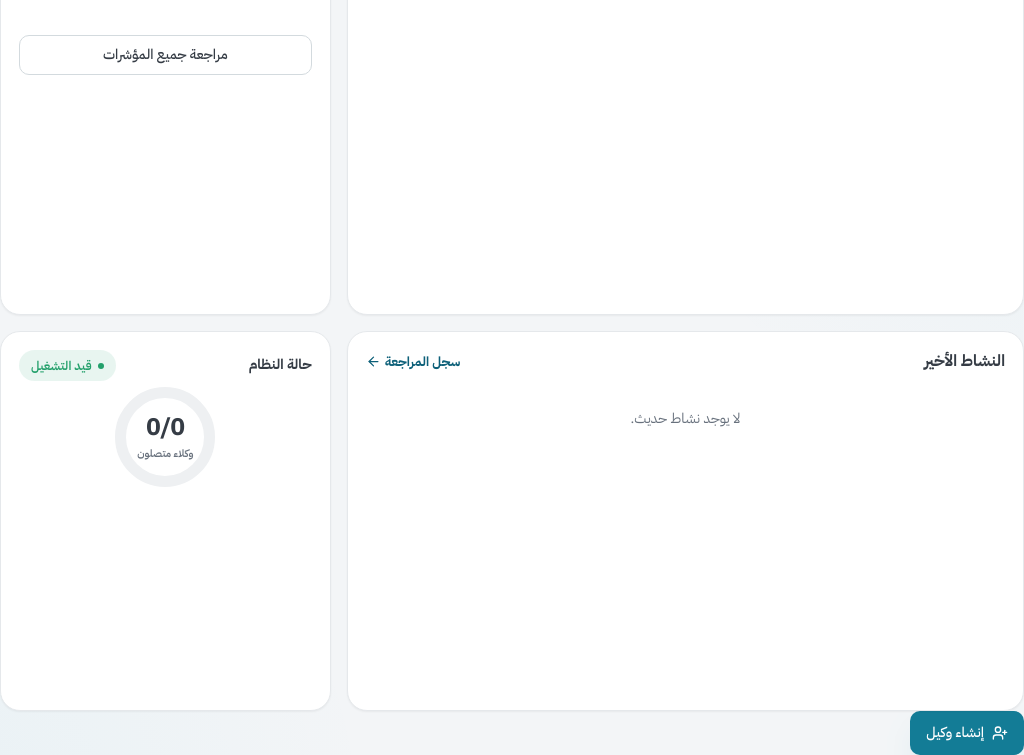
it: MasterDashboard "Create Agent" field accessible names (a11y) › localises the accessible names in Arabic with no English leak
(page scrolled)
Click the button "إنشاء وكيل" at (967, 733), box [910,711,1023,754]
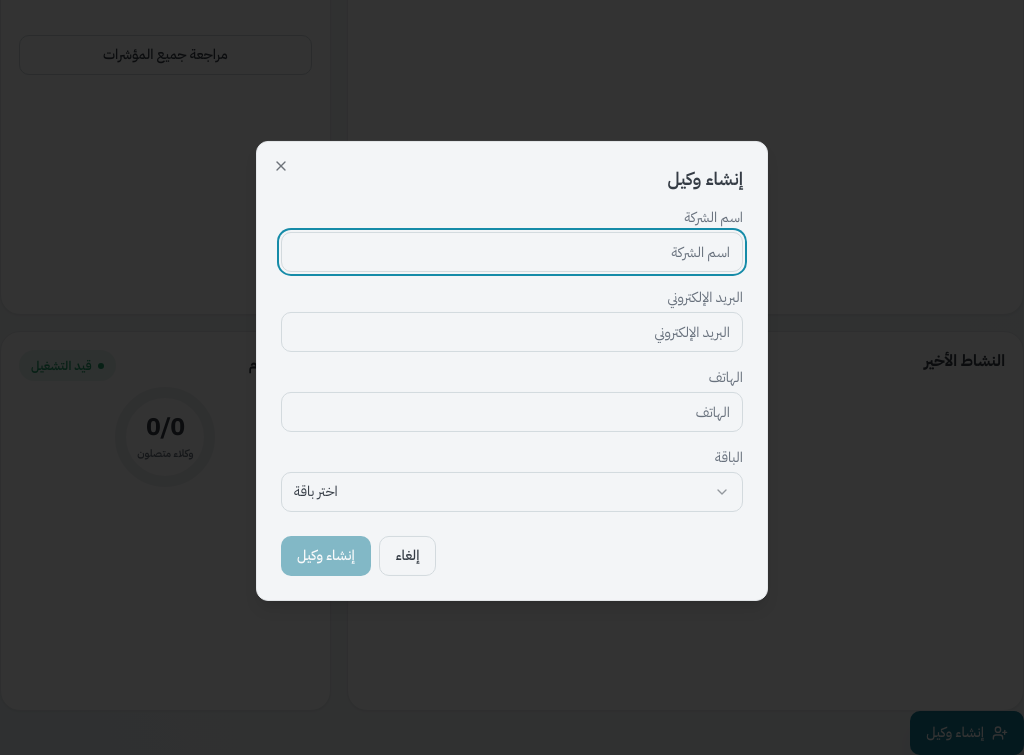
Now the field labelled "اسم الشركة" is shown, box [281,232,743,272]
Now the field labelled "البريد الإلكتروني" is shown, box [281,312,743,352]
Now the field labelled "الهاتف" is shown, box [281,392,743,432]
